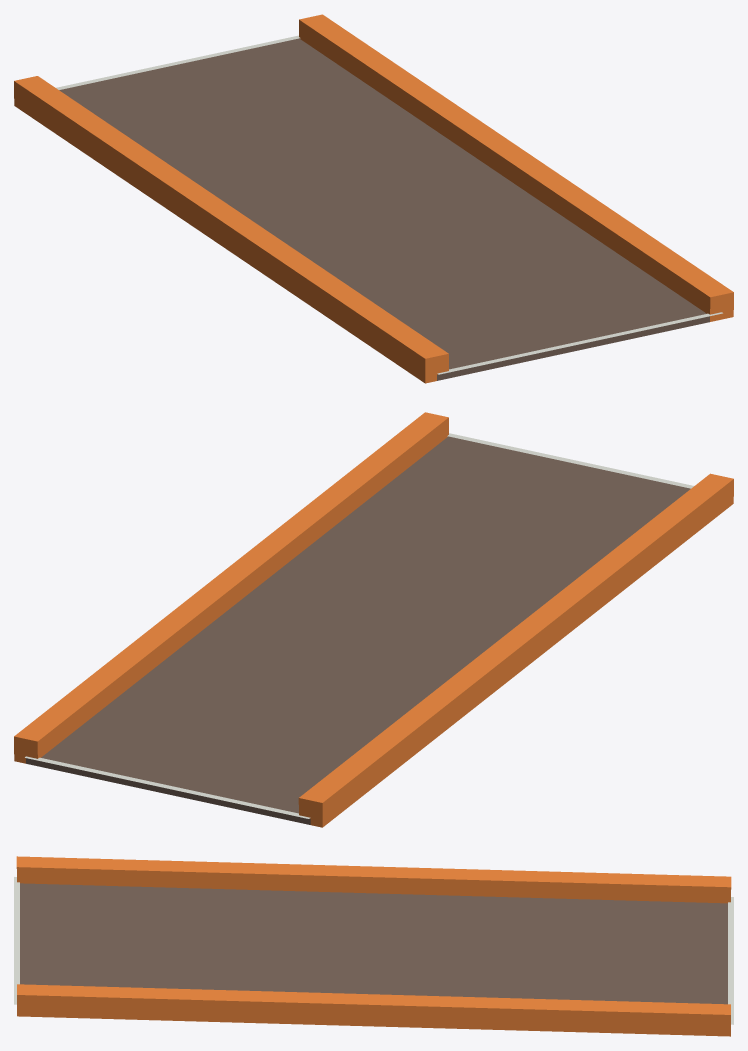
The model's file is SM_MP_Film_A_4_2.fbx.
3 renders of one model, top to bottom at view 1: azimuth 30°, elevation 25°; view 2: azimuth 150°, elevation 25°; view 3: azimuth 270°, elevation 25°, orthographic. The views are drawn at different scales.
Visible parts, largest first — view 1: SM_MP_Film_A_4_2; view 2: SM_MP_Film_A_4_2; view 3: SM_MP_Film_A_4_2.
Boxes of the visible parts, x1=… form: SM_MP_Film_A_4_2: x1=14, y1=14, x2=733, y2=383; SM_MP_Film_A_4_2: x1=14, y1=412, x2=733, y2=827; SM_MP_Film_A_4_2: x1=14, y1=856, x2=733, y2=1036.
Size of what is drawn, in the model's own units: 260 by 605 by 45.73.
